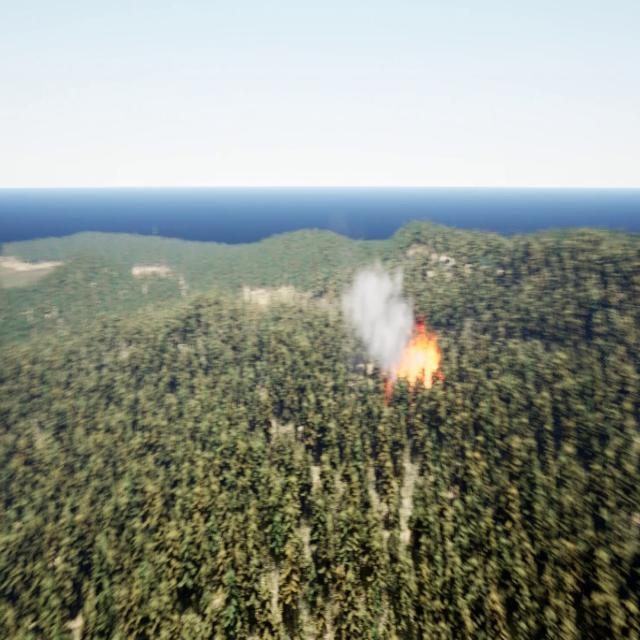fire: (386, 315, 448, 395)
smoke: (343, 253, 412, 378)
